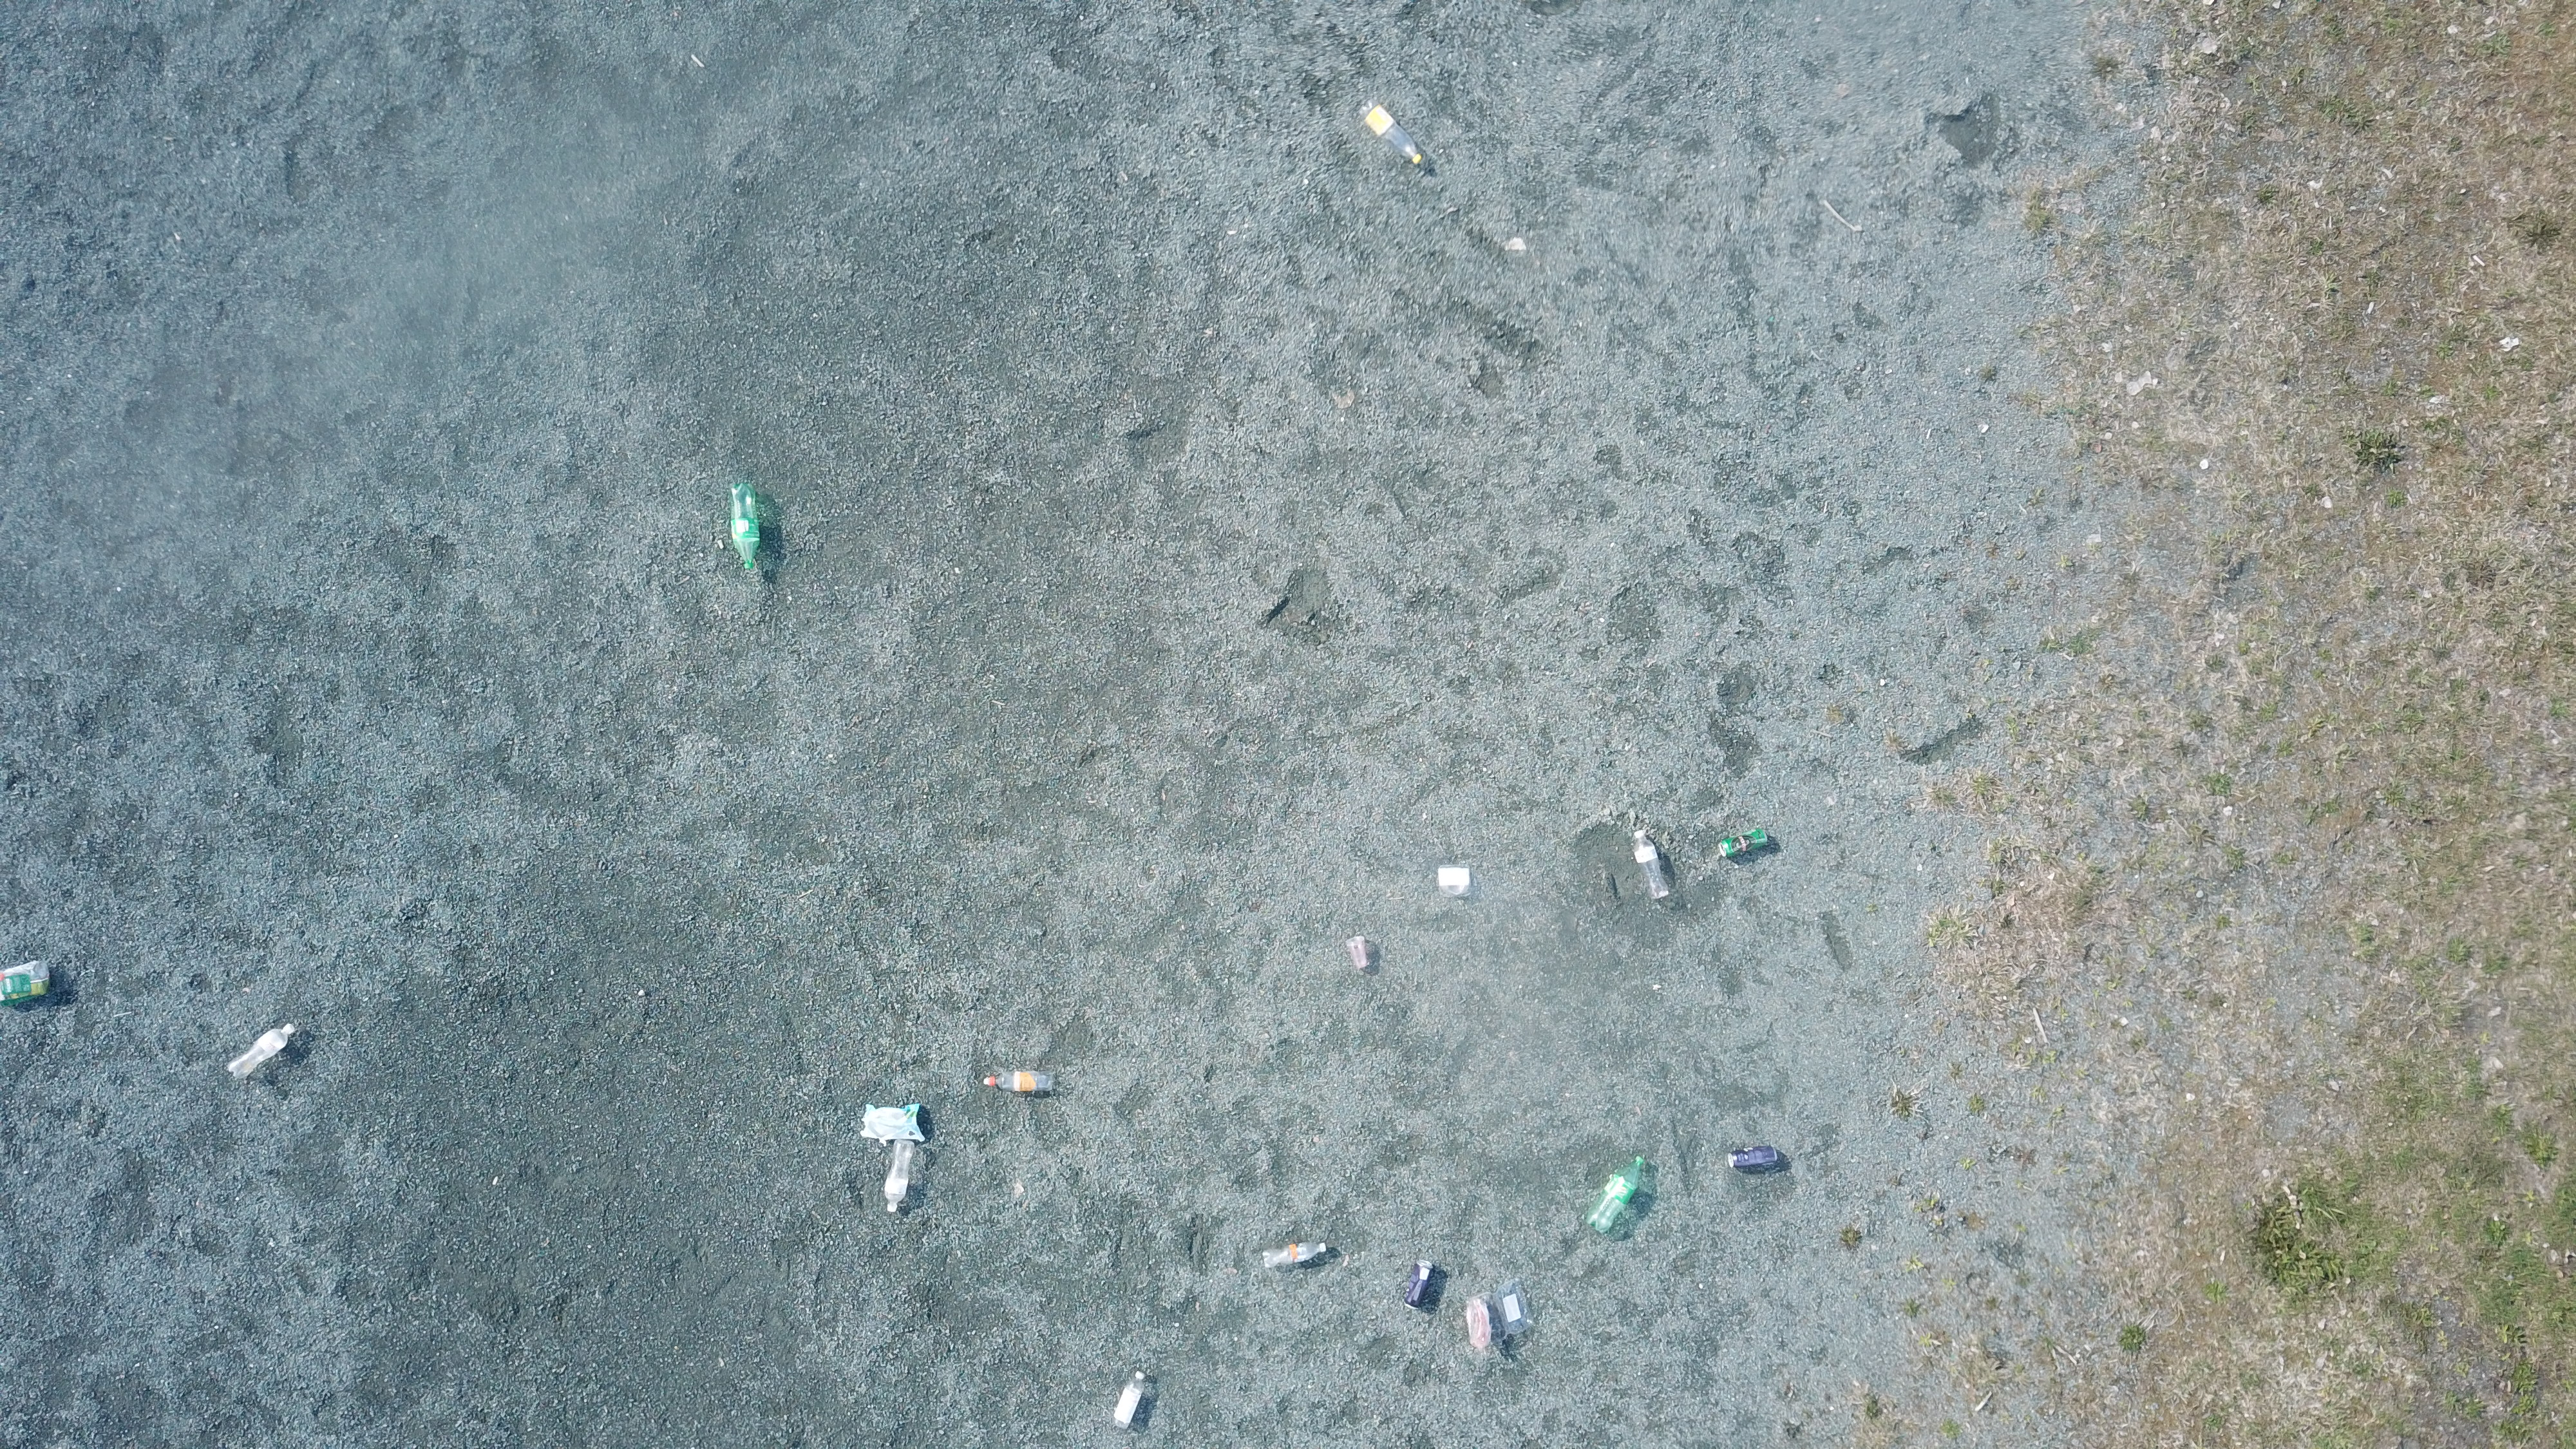Can: (1720, 828, 1771, 860), (1405, 1260, 1433, 1313), (1729, 1143, 1780, 1171)
Plastic: (1463, 1277, 1539, 1352), (0, 959, 51, 1007), (860, 1106, 925, 1141), (1437, 863, 1476, 901), (1345, 934, 1373, 971)
PlasticBottle: (1585, 1155, 1645, 1235), (1361, 103, 1424, 166), (228, 1023, 295, 1079), (729, 483, 763, 573), (1633, 828, 1672, 899), (885, 1139, 915, 1215), (985, 1067, 1058, 1097), (1261, 1240, 1329, 1270), (1113, 1369, 1145, 1430)
